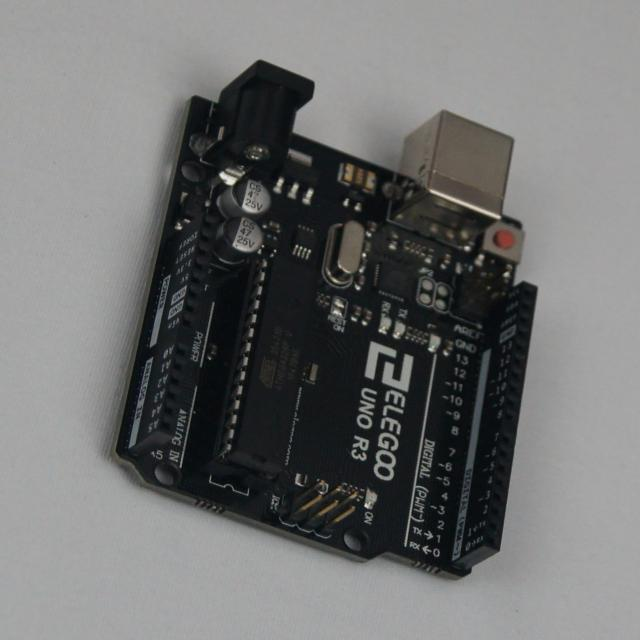Arduino Uno -Black-: (115, 62, 535, 578)
